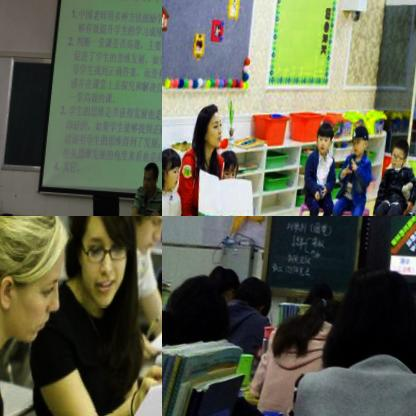head: (0, 216, 76, 344), (336, 262, 416, 372), (62, 216, 144, 307), (167, 275, 235, 366), (235, 270, 285, 324), (306, 289, 351, 338), (207, 255, 248, 308), (196, 98, 230, 148), (303, 277, 341, 309), (162, 146, 186, 191), (219, 147, 244, 181), (353, 121, 375, 156), (317, 117, 338, 153), (390, 135, 413, 164), (144, 156, 162, 192)
